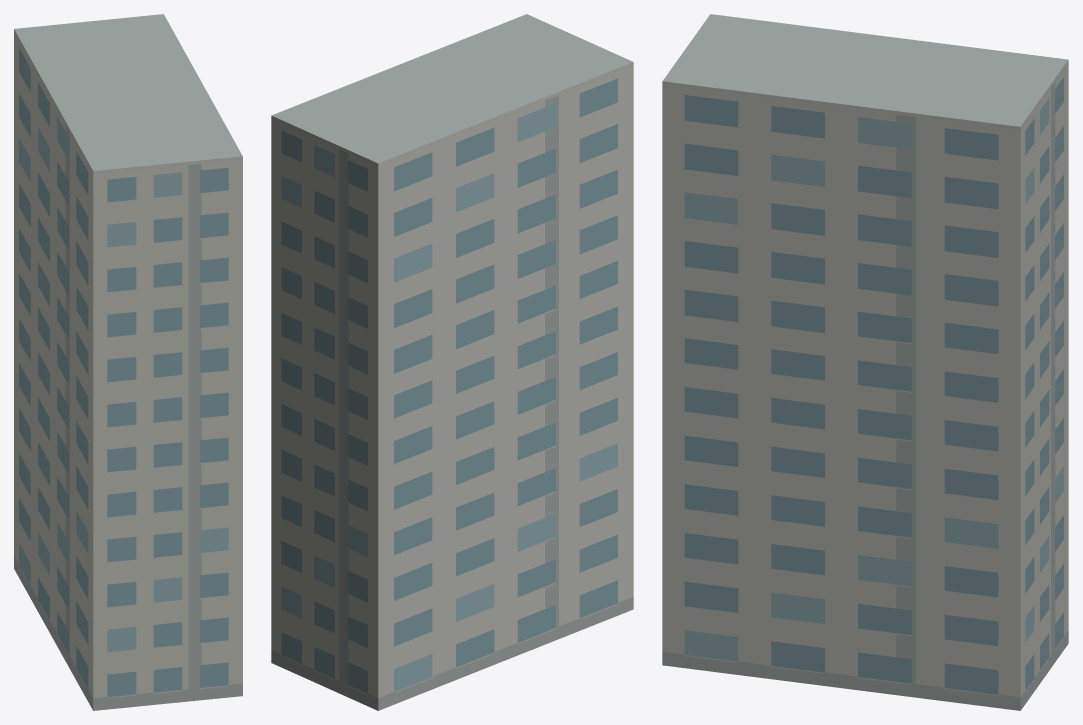
File: residential-0bdb4e7e-4961-479e-ae3e-0f3606822cf4.glb
The picture shows the model from 3 angles, left to right: view 1: azimuth 30°, elevation 25°; view 2: azimuth 150°, elevation 25°; view 3: azimuth 270°, elevation 25°; orthographic projection. The views are drawn at different scales.
Visible parts, largest first — view 1: residential-0bdb4e7e-4961-479e-ae3e-0f3606822cf4.tmp; view 2: residential-0bdb4e7e-4961-479e-ae3e-0f3606822cf4.tmp; view 3: residential-0bdb4e7e-4961-479e-ae3e-0f3606822cf4.tmp.
Boxes of the visible parts, x1,y1,x2,y2 form: residential-0bdb4e7e-4961-479e-ae3e-0f3606822cf4.tmp: (14, 14, 242, 710); residential-0bdb4e7e-4961-479e-ae3e-0f3606822cf4.tmp: (271, 14, 633, 710); residential-0bdb4e7e-4961-479e-ae3e-0f3606822cf4.tmp: (662, 14, 1068, 710).
Bounding box in the file's own units: 15.76 × 38 × 23.96.
